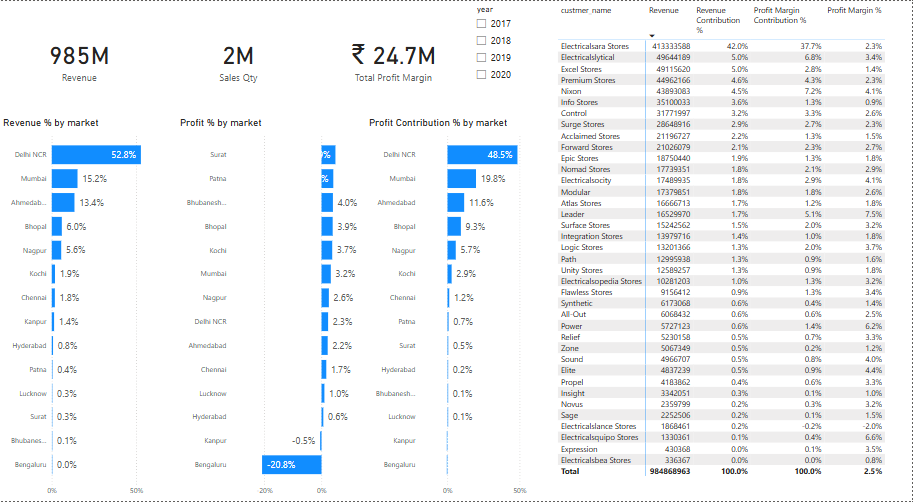

What the dashboard file says about the page in this screenshot:
{"tool":"powerbi","page":{"name":"Profit Analysis","canvas":[1550,850],"ordinal":1},"visuals":[{"type":"card","fields":{"Values":["BaseMeasures.Revenue"]},"box":[0,0,269.7,197.7],"z":0},{"type":"card","fields":{"Values":["BaseMeasures.Sales Qty"]},"box":[269.7,0,269.7,197.7],"z":1000},{"type":"barChart","title":"Profit % by market","fields":{"Category":["sales markets.markets_name"],"Y":["BaseMeasures.Profit Margin %"]},"box":[300.9,197.2,321.3,652.8],"z":2000},{"type":"barChart","title":"Profit Contribution % by market","fields":{"Y":["BaseMeasures.Profit Margin Contribution %"],"Category":["sales markets.markets_name"]},"box":[622.2,197.2,321.3,652.8],"z":3000},{"type":"slicer","fields":{"Values":["sales date.year"]},"box":[797.3,0,146.2,197.2],"z":4000},{"type":"pivotTable","title":"Top 5 Customers","fields":{"Rows":["sales customers.custmer_name"],"Values":["BaseMeasures.Revenue","BaseMeasures.Revenue Contribution %","BaseMeasures.Profit Margin Contribution %","BaseMeasures.Profit Margin %"]},"box":[943.5,0,606.9,850],"z":5000},{"type":"card","fields":{"Values":["BaseMeasures.Total Profit Margin"]},"box":[540.6,0,256.7,197.2],"z":6000},{"type":"barChart","title":"Revenue % by market","fields":{"Category":["sales markets.markets_name"],"Y":["BaseMeasures.Revenue Contribution %"]},"box":[0,197.2,300.9,652.8],"z":7000}]}

Visuals, with their boxes in screenshot pixels (x1, y1, x2, y2), scaled from the page's 1550x850 canvas onto the 913x502 screenshot:
card - BaseMeasures.Revenue: [0,0,159,117]
card - BaseMeasures.Sales Qty: [159,0,318,117]
"Profit % by market" barChart: [177,116,366,501]
"Profit Contribution % by market" barChart: [366,116,556,501]
slicer - sales date.year: [470,0,556,116]
"Top 5 Customers" pivotTable: [556,0,912,501]
card - BaseMeasures.Total Profit Margin: [318,0,470,116]
"Revenue % by market" barChart: [0,116,177,501]
